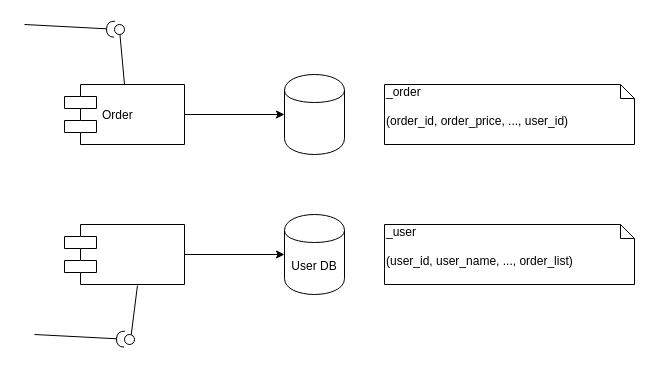
This 652x365 diagram has some shape labels left out. Each missing label, with the centre of its shape:
OrderDB: point 314,114
User: point 124,254
